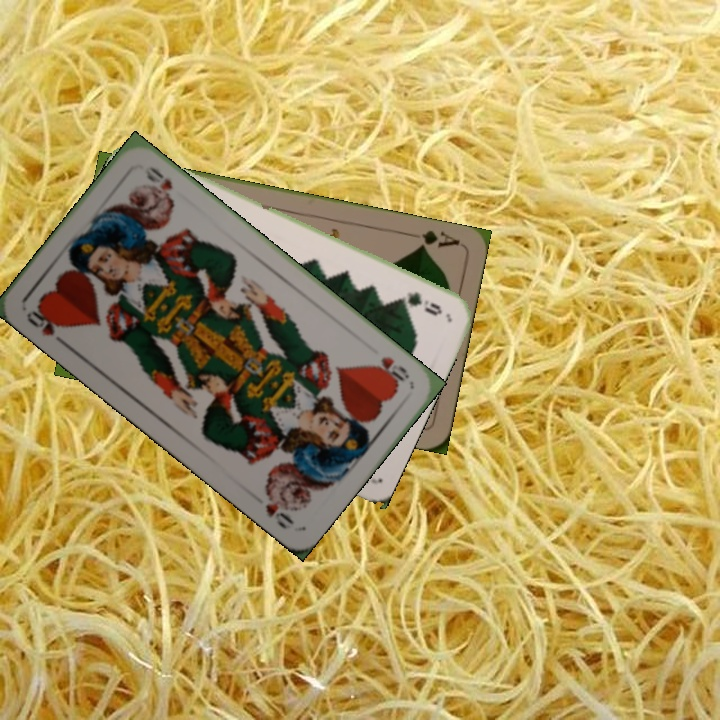G9: (395, 287, 445, 319)
GA: (414, 226, 463, 252)
HO: (22, 302, 71, 349), (367, 352, 413, 388)
